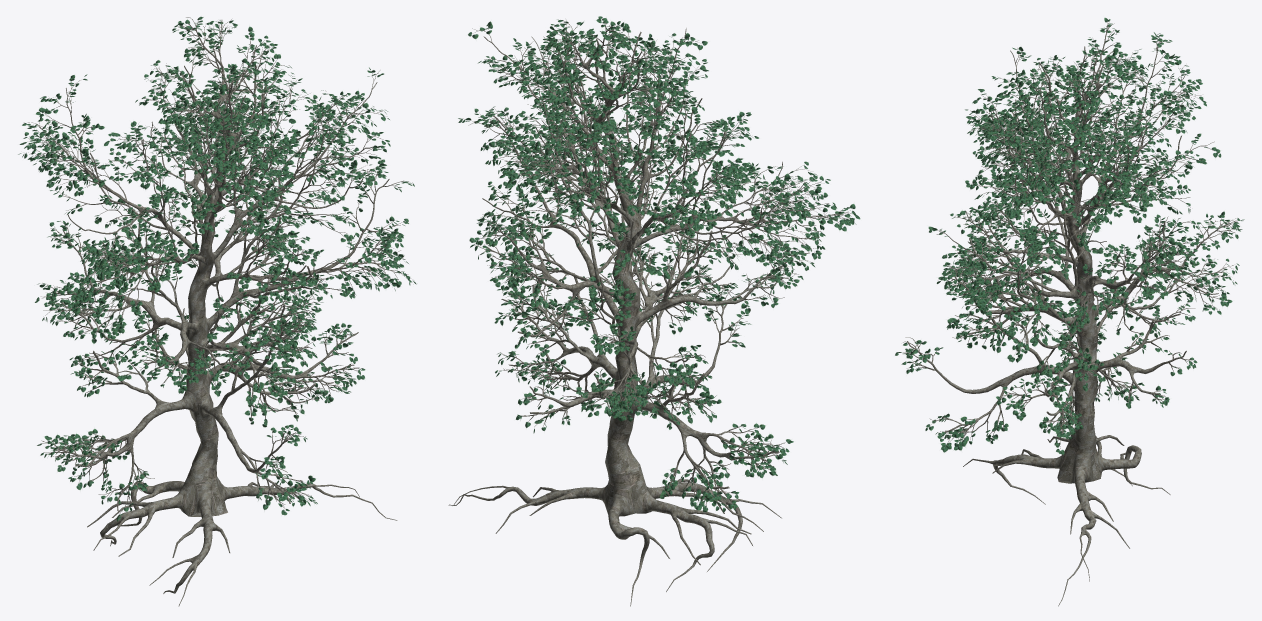
The model's file is tree2.glb.
3 views of the same model, side by side, from view 1: azimuth 30°, elevation 25°; view 2: azimuth 150°, elevation 25°; view 3: azimuth 270°, elevation 25° (orthographic). The views are drawn at different scales.
Visible parts, largest first — view 1: Bodhi Tree; view 2: Bodhi Tree; view 3: Bodhi Tree.
Boxes of the visible parts, x1,y1,x2,y2 form: Bodhi Tree: [18, 16, 416, 606]; Bodhi Tree: [448, 16, 860, 606]; Bodhi Tree: [895, 17, 1244, 606].
Size of the model in its own units: 29.33 by 41.19 by 25.9.
2 materials, 2 textured.
